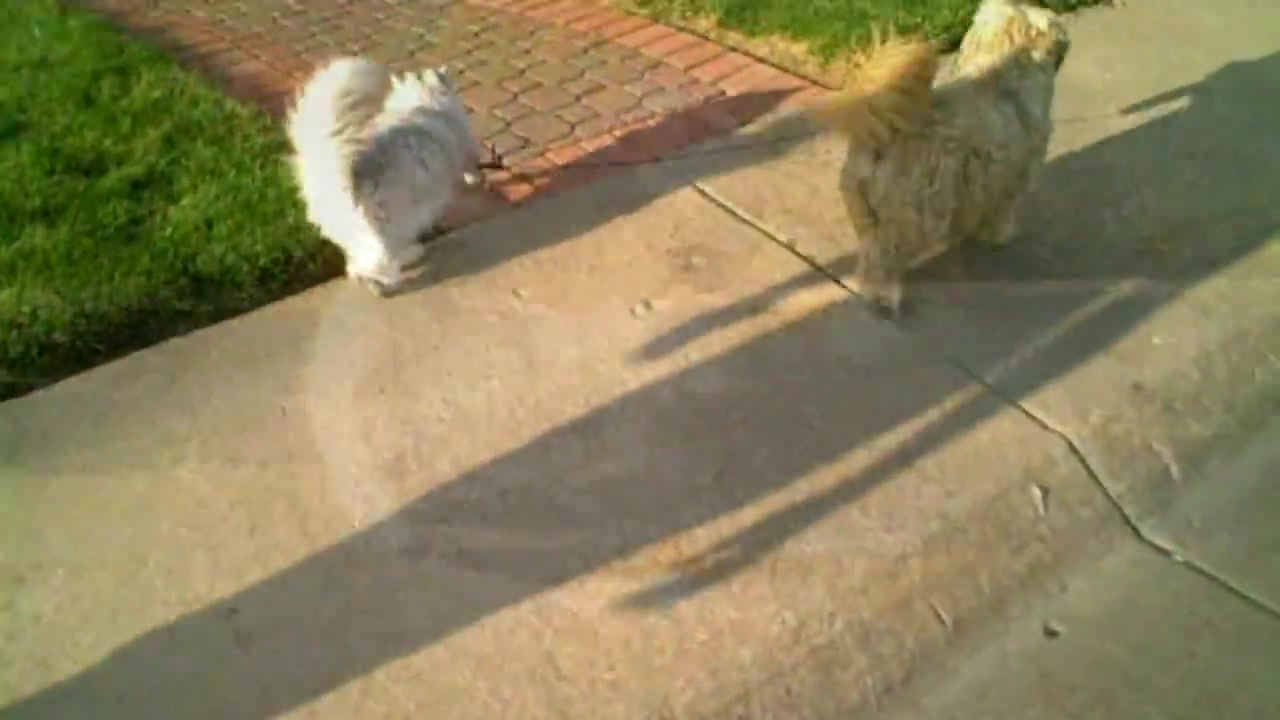dog: (813, 5, 1078, 317)
